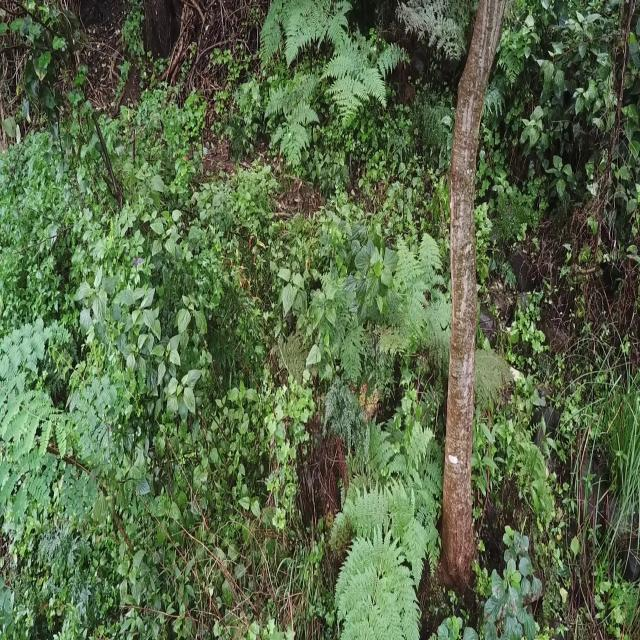Mysore-Thorn-Weed: (0, 324, 157, 556)
